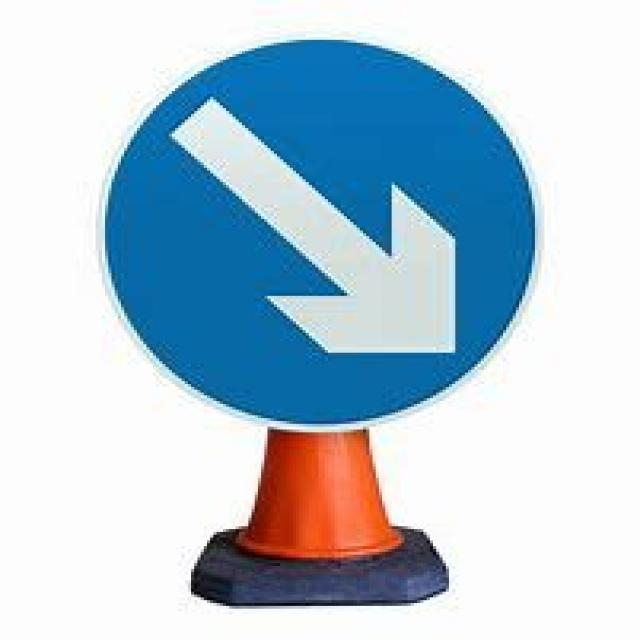COMPULSARY_KEEP_RIGHT: (86, 31, 551, 432)
